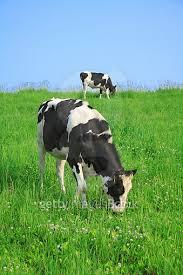cow: (36, 99, 137, 213), (80, 72, 117, 97)
